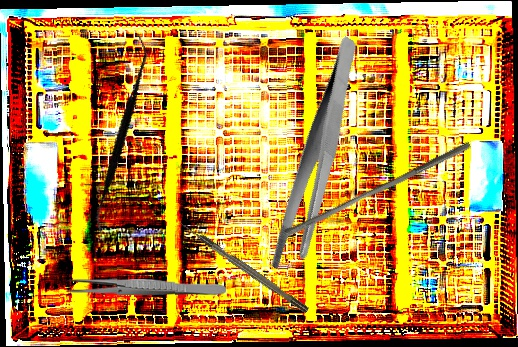Dressing Forceps: (222, 35, 415, 279), (65, 277, 227, 297)
Hook Surgical: (178, 219, 310, 315)
Pusher: (284, 134, 472, 244)
Spatula Surgical: (46, 34, 194, 237)
